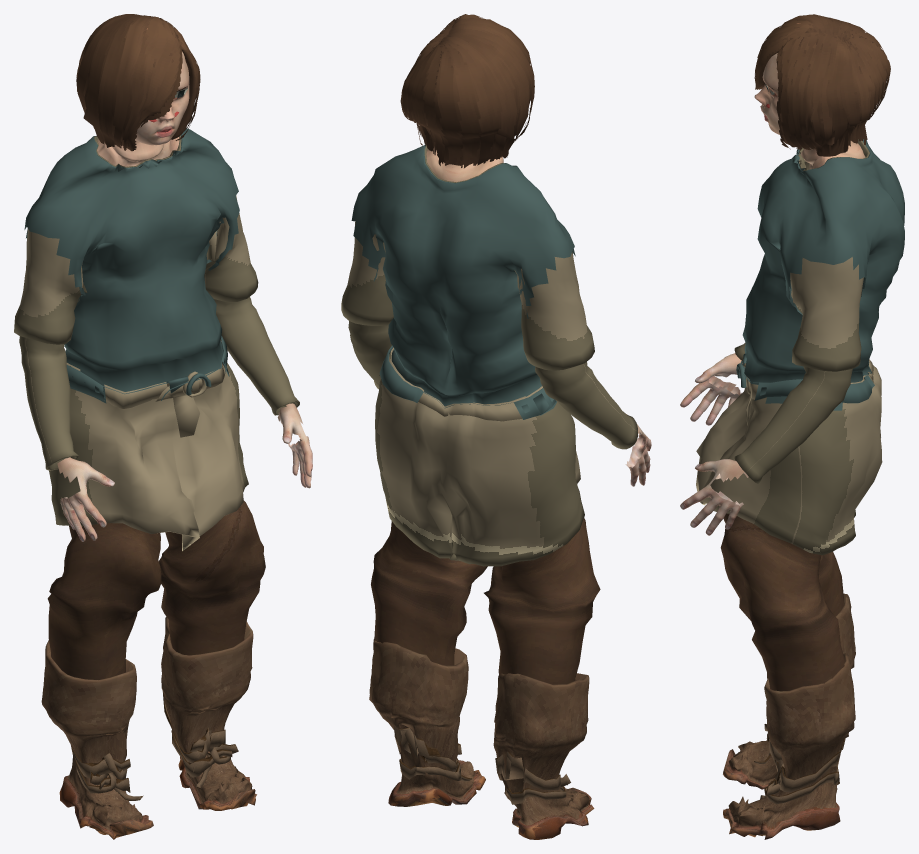
Rendered from ada-work-vest.glb.
3 views of the same model, side by side, from view 1: azimuth 30°, elevation 25°; view 2: azimuth 150°, elevation 25°; view 3: azimuth 270°, elevation 25° (orthographic). The views are drawn at different scales.
Parts seen in each view (by area): view 1: ada-work-vest runtime mesh; view 2: ada-work-vest runtime mesh; view 3: ada-work-vest runtime mesh.
Boxes of the visible parts, x1,y1,x2,y2 form: ada-work-vest runtime mesh: (14,14,312,839); ada-work-vest runtime mesh: (341,14,651,839); ada-work-vest runtime mesh: (680,14,904,839).
Size of the model in its own units: 0.6252 by 1.85 by 0.4767.
Materials: 9 (7 with a texture image).
